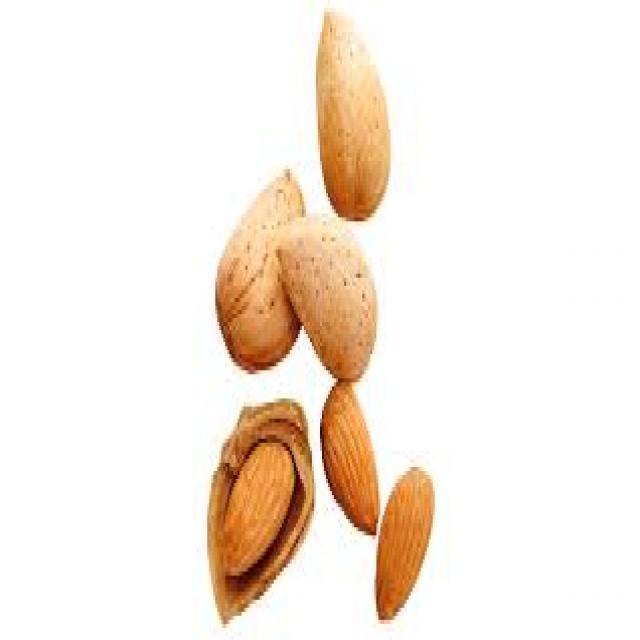almond: (217, 430, 300, 588), (372, 462, 440, 618), (318, 379, 380, 534)
